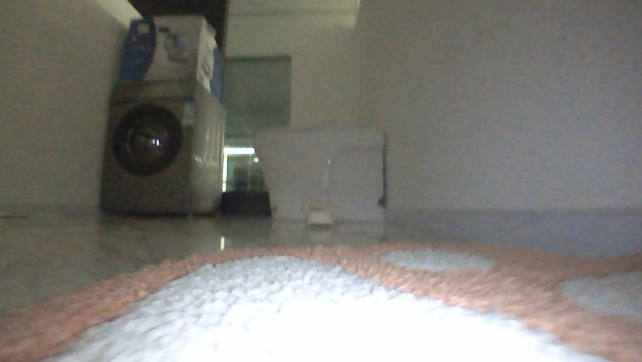blanket: (0, 233, 641, 361)
toilet: (249, 120, 388, 226)
washing_machine: (96, 74, 229, 220)
